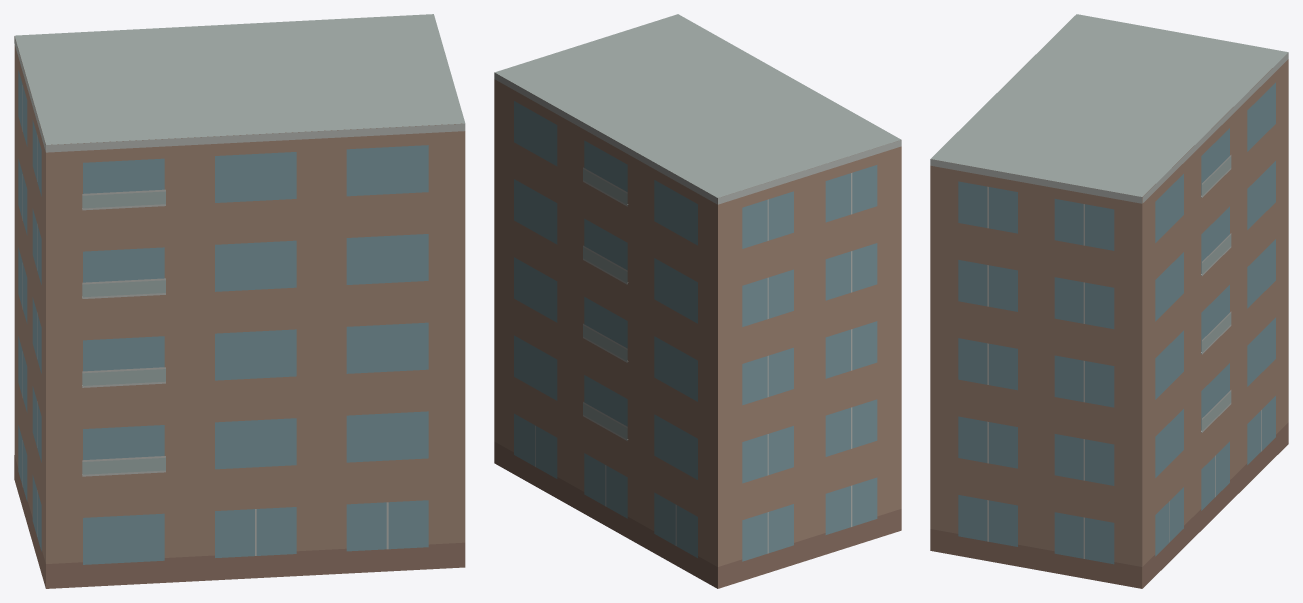
The model's file is survey-upis-32534145.glb.
The picture shows the model from 3 angles, left to right: view 1: azimuth 30°, elevation 25°; view 2: azimuth 150°, elevation 25°; view 3: azimuth 270°, elevation 25°; orthographic projection. The views are drawn at different scales.
Visible parts, largest first — view 1: survey-upis-32534145.tmp; view 2: survey-upis-32534145.tmp; view 3: survey-upis-32534145.tmp.
Part boxes in pixels (x1,y1,x2,y2): survey-upis-32534145.tmp: [14, 14, 465, 588]; survey-upis-32534145.tmp: [494, 14, 901, 588]; survey-upis-32534145.tmp: [930, 14, 1288, 588].
Size of the model in its own units: 14.34 by 14.3 by 11.86.
